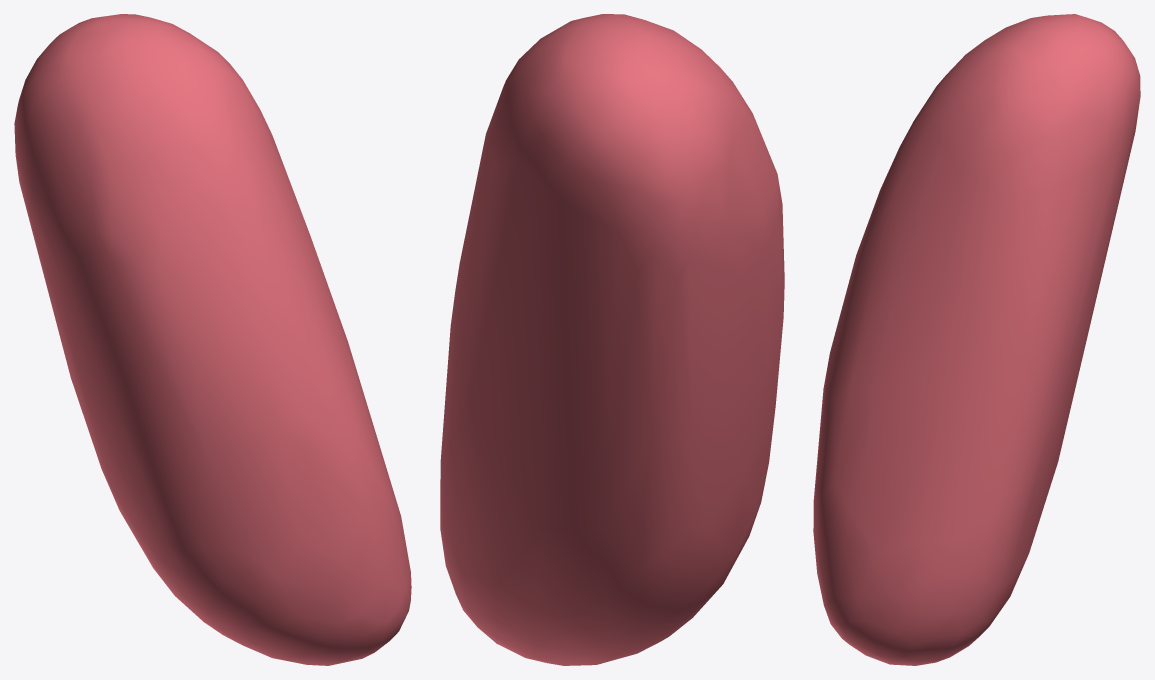
File: fma50820_fj5092.glb
3 renders of one model, left to right at view 1: azimuth 30°, elevation 25°; view 2: azimuth 150°, elevation 25°; view 3: azimuth 270°, elevation 25°, orthographic. The views are drawn at different scales.
Visible parts, largest first — view 1: FMA50820_FJ5092; view 2: FMA50820_FJ5092; view 3: FMA50820_FJ5092.
Part boxes in pixels (bbox=[...]): FMA50820_FJ5092: bbox=[14, 14, 411, 665]; FMA50820_FJ5092: bbox=[440, 14, 784, 665]; FMA50820_FJ5092: bbox=[813, 14, 1140, 665].
Bounding box in the file's own units: 0.0119 × 0.0235 × 0.012.
